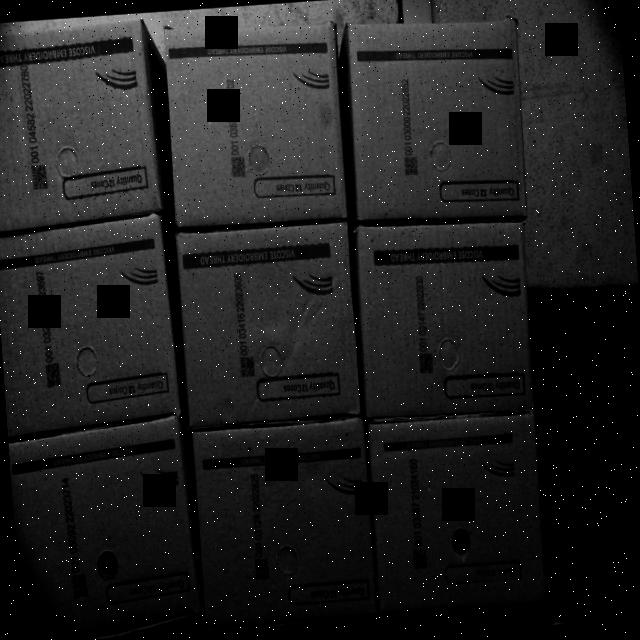box: (188, 418, 380, 634), (0, 219, 182, 442), (7, 431, 199, 640), (351, 210, 538, 424), (344, 8, 529, 224), (156, 28, 350, 230), (172, 222, 364, 426), (366, 412, 551, 614), (0, 18, 164, 226)
